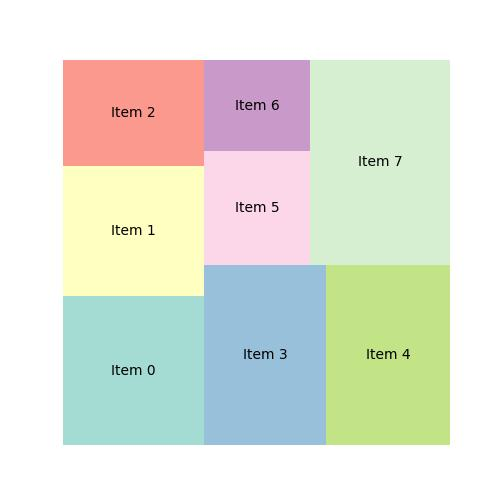rectangle: (310, 59, 450, 266), (325, 267, 451, 446), (204, 266, 326, 444), (63, 299, 204, 444), (63, 166, 204, 298), (62, 60, 205, 166), (202, 151, 311, 265), (204, 59, 311, 151)
